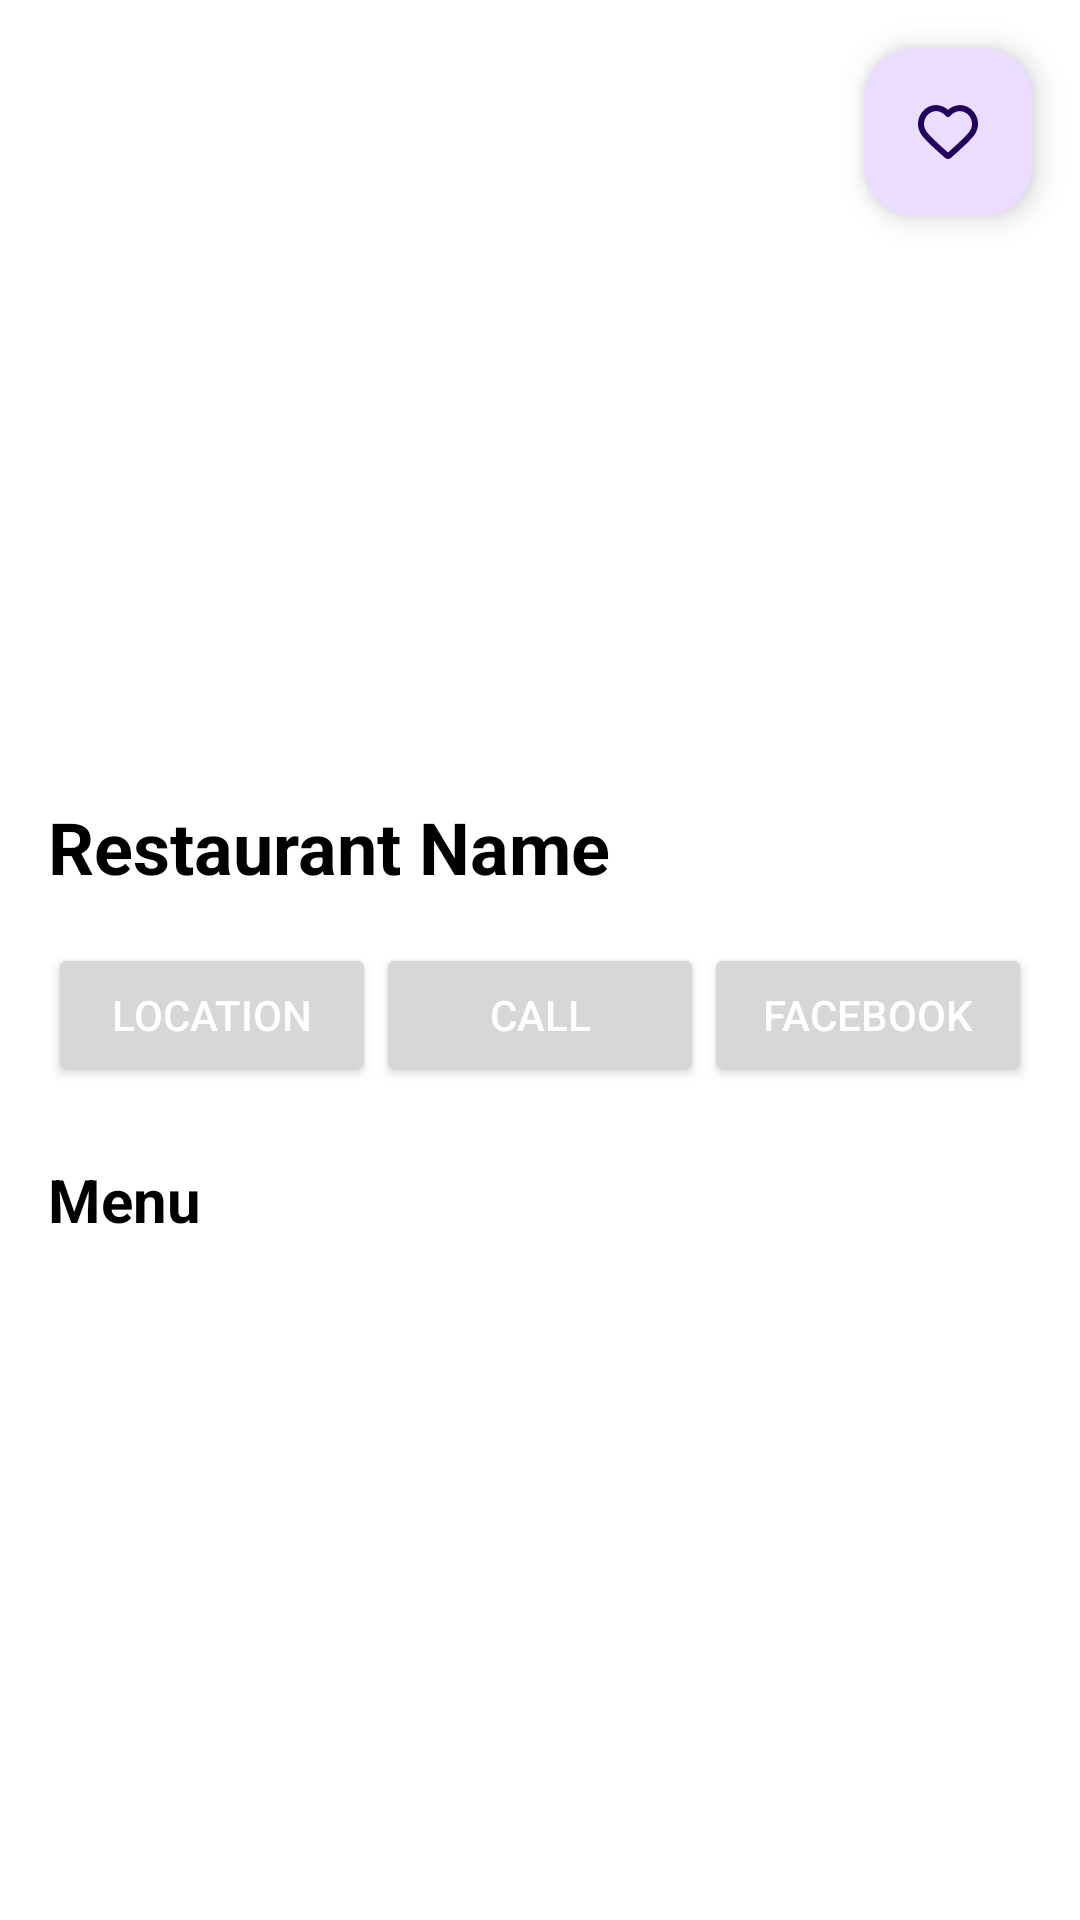

Where icons sit on this 1080x1920 app screen, as BBox(x1, y1, x2, y2):
Add to Favorites: BBox(864, 48, 1032, 216)
